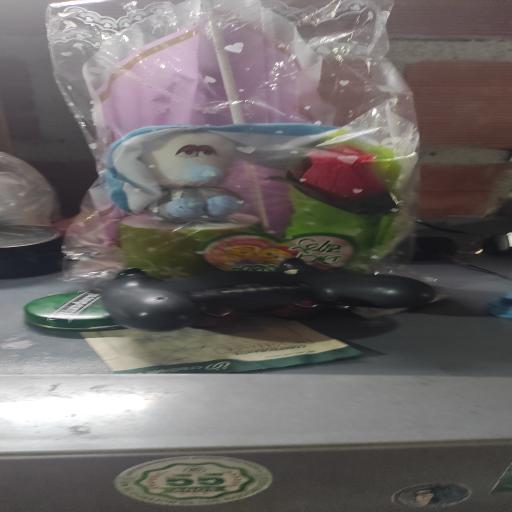ControlPlay4: (102, 257, 436, 332)
